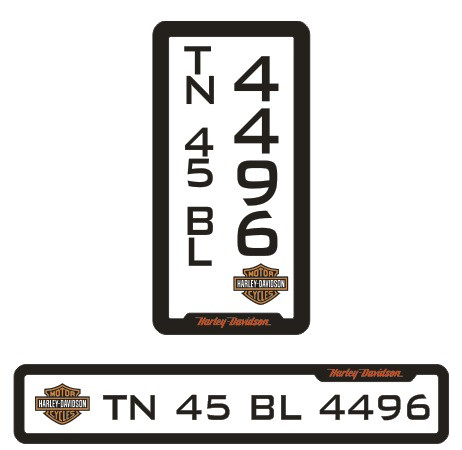number_plate: (151, 17, 316, 337), (13, 362, 450, 447)
